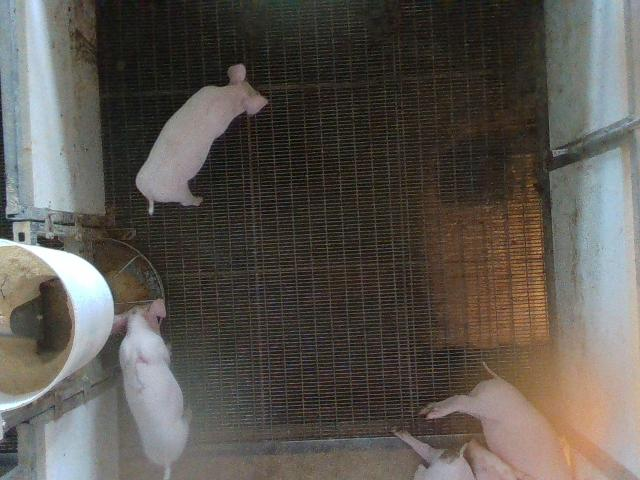pig-5: (112, 299, 189, 478)
